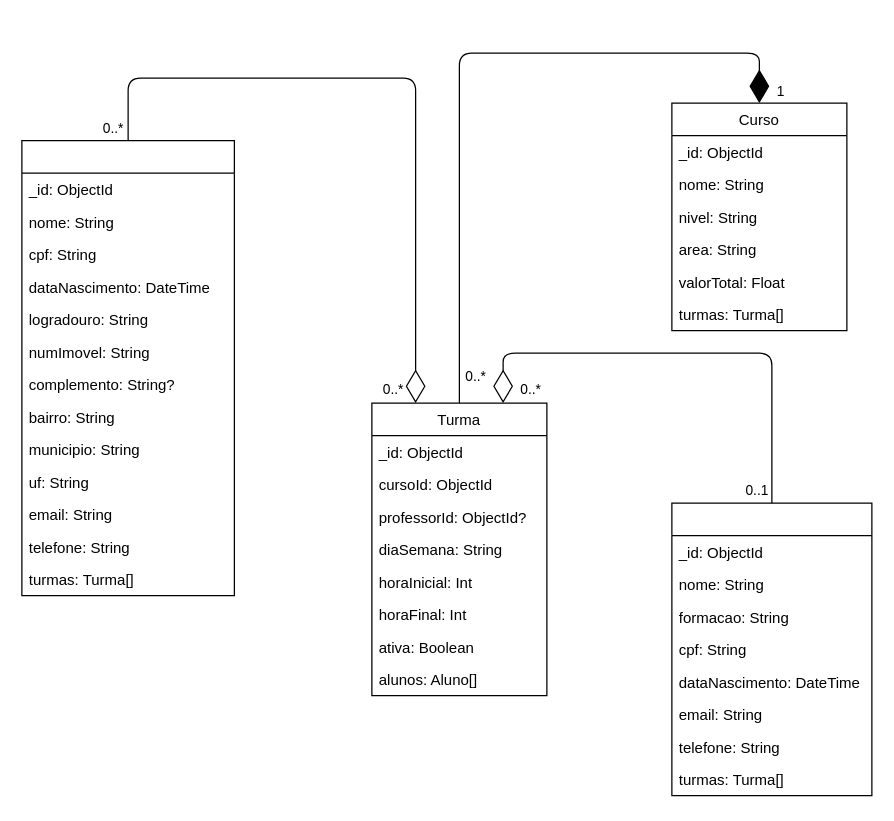
Some shapes in this 894 by 821 pixel diagram are drawn without their labels. Here are the shapes that lost their labels. From the top down, the box of each, then its label:
(21, 139, 234, 596): Aluno
(671, 502, 872, 796): Professor
